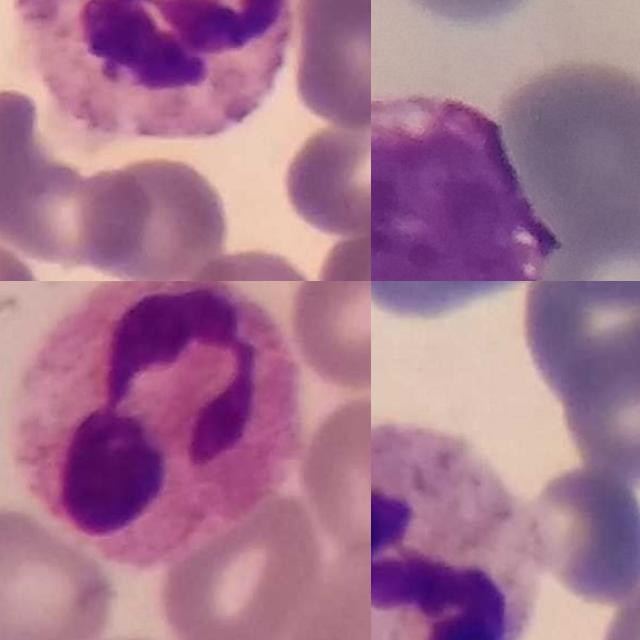Basophil: (371, 89, 557, 281)
Neutrophil: (13, 281, 304, 568), (14, 0, 293, 140), (371, 424, 546, 640)
